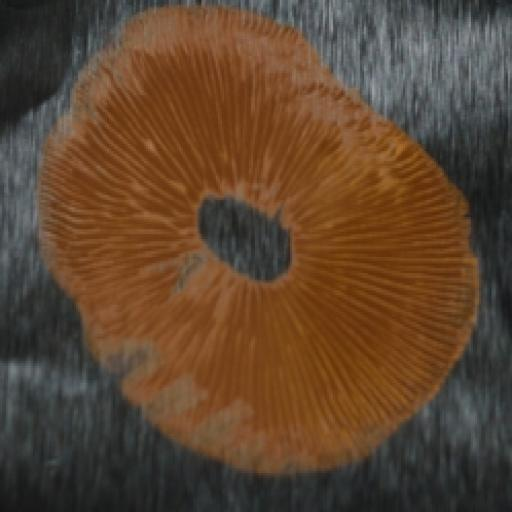mushroom: (30, 1, 490, 488)
